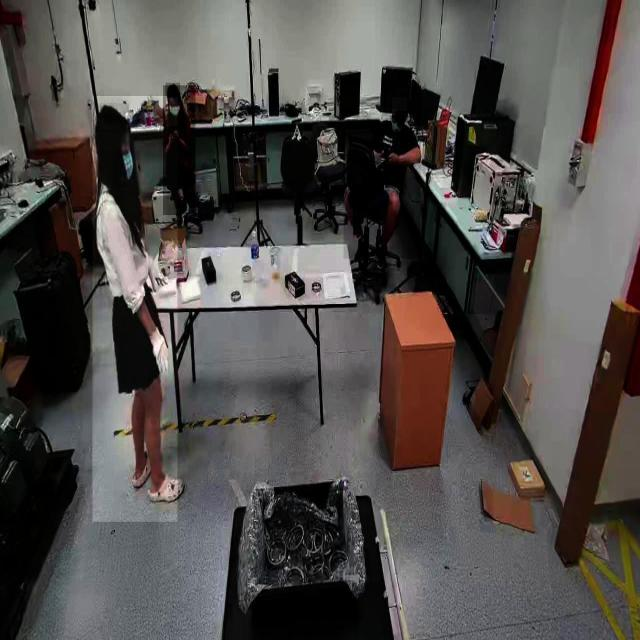face_mask: (113, 150, 141, 187), (166, 98, 182, 126), (390, 116, 404, 140)
hand_glove: (147, 324, 173, 375)
hand_noglove: (384, 149, 400, 168), (376, 147, 388, 165), (171, 126, 180, 142), (168, 132, 173, 143)
head_nohelmet: (94, 103, 130, 133), (392, 97, 408, 112), (166, 83, 180, 97)
person: (92, 96, 178, 523), (343, 111, 421, 260), (163, 85, 196, 215)
